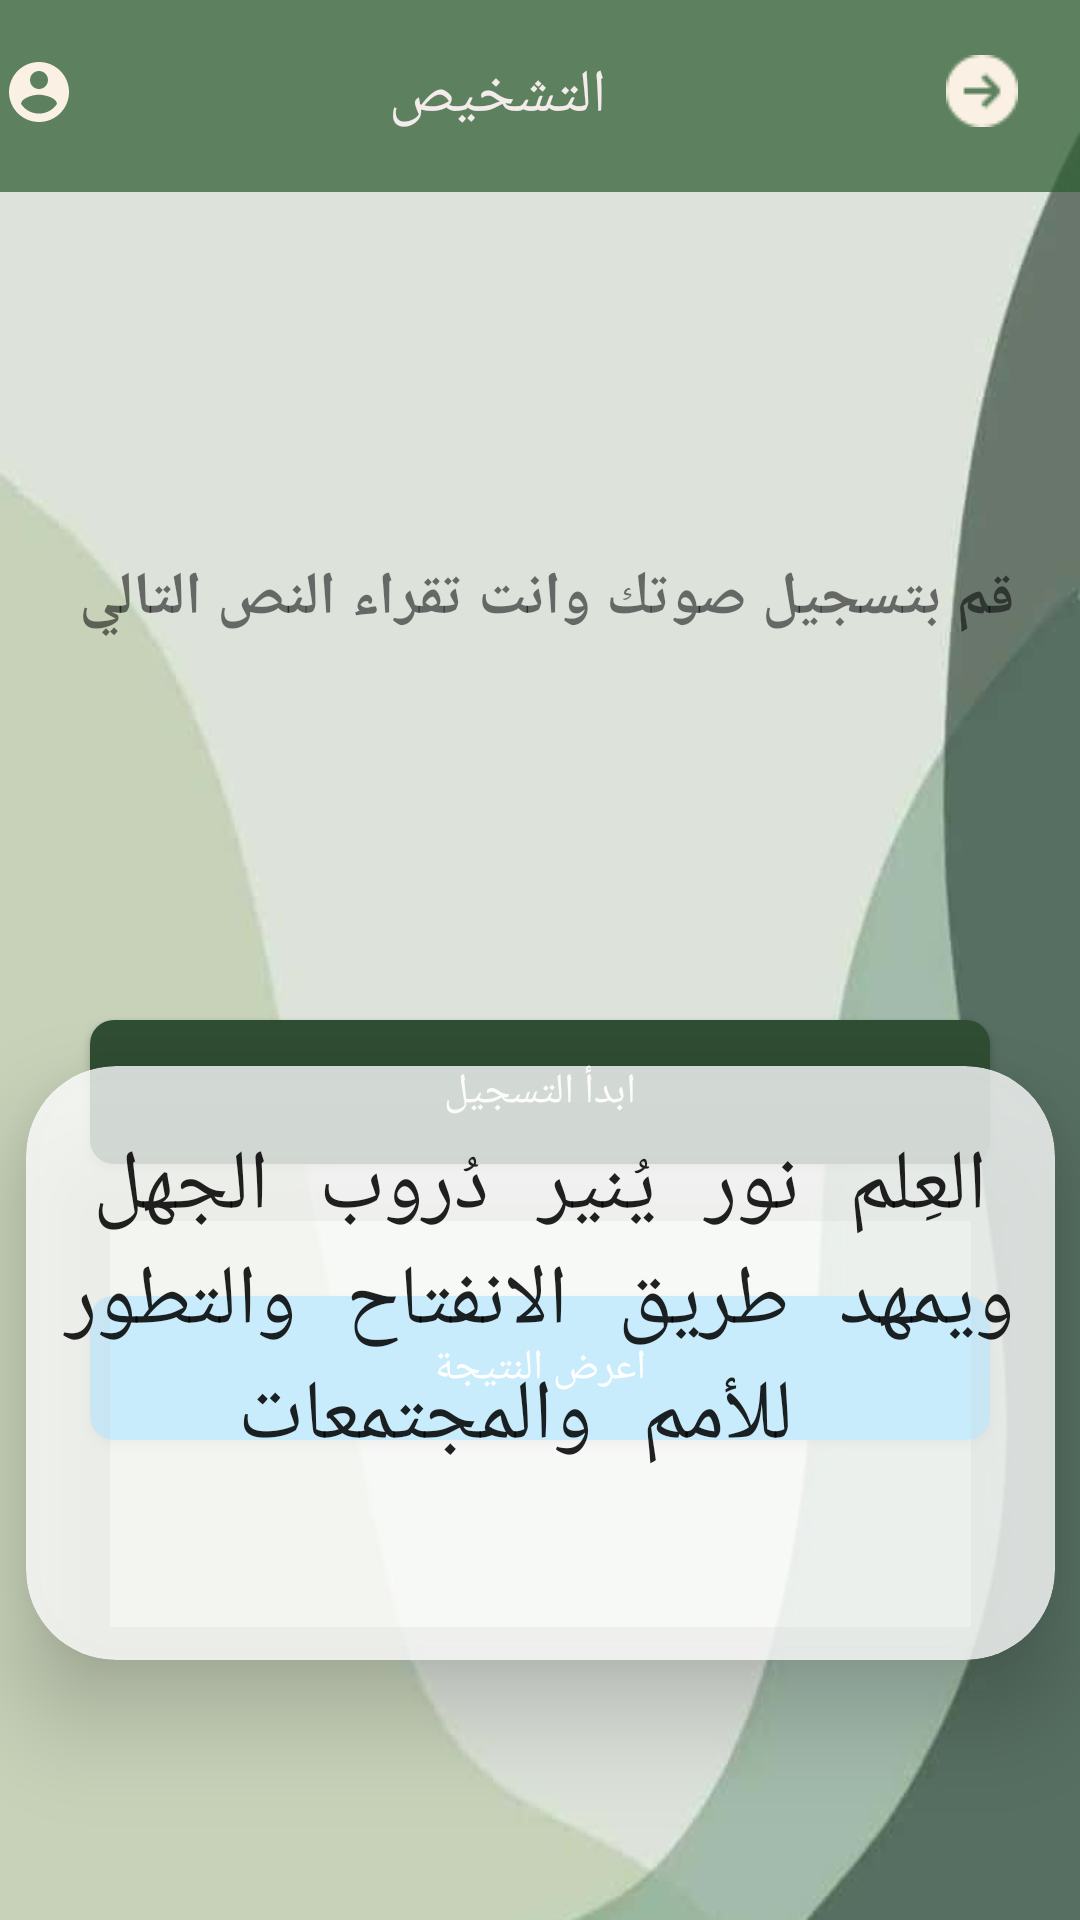

Icons on this 1080×1920 Android screen, each with the point to tap as [x,y]:
arrow: [982,91]
